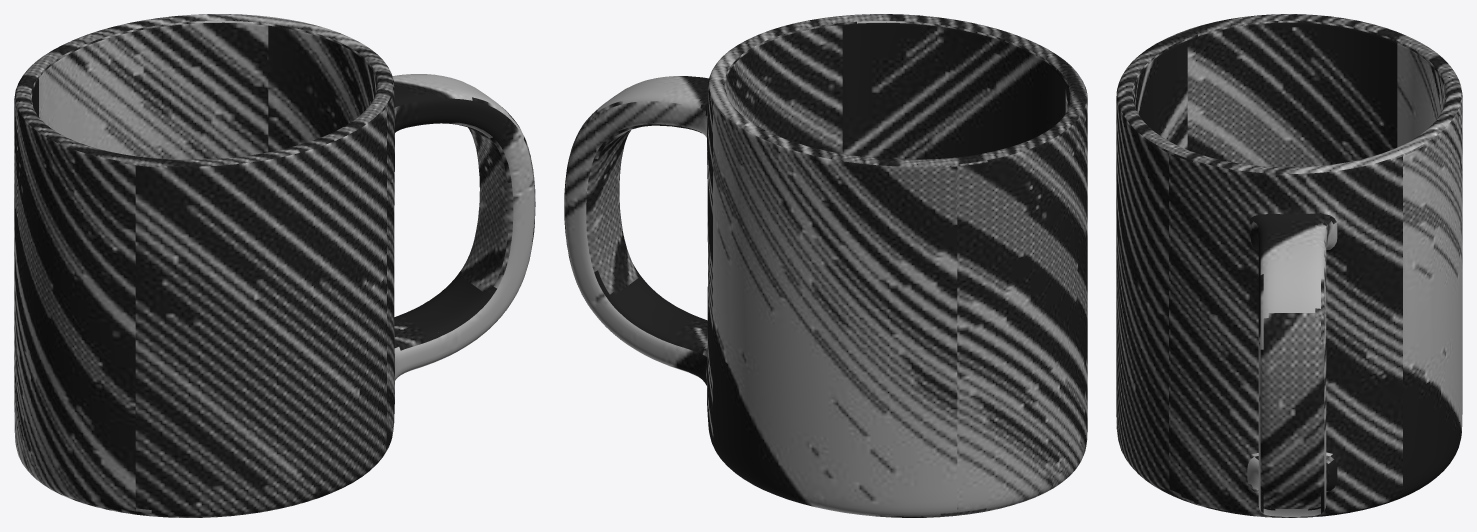
The model's file is coffee_mug.glb.
The picture shows the model from 3 angles, left to right: view 1: azimuth 30°, elevation 25°; view 2: azimuth 150°, elevation 25°; view 3: azimuth 270°, elevation 25°; orthographic projection. The views are drawn at different scales.
Visible parts, largest first — view 1: Line001_Material #113_0; view 2: Line001_Material #113_0; view 3: Line001_Material #113_0.
Part boxes in pixels (x1=…): Line001_Material #113_0: x1=14, y1=14, x2=535, y2=517; Line001_Material #113_0: x1=564, y1=14, x2=1087, y2=517; Line001_Material #113_0: x1=1116, y1=14, x2=1462, y2=517.
Bounding box in the file's own units: 0.1391 × 0.098 × 0.0873.
1 material, 1 textured.
